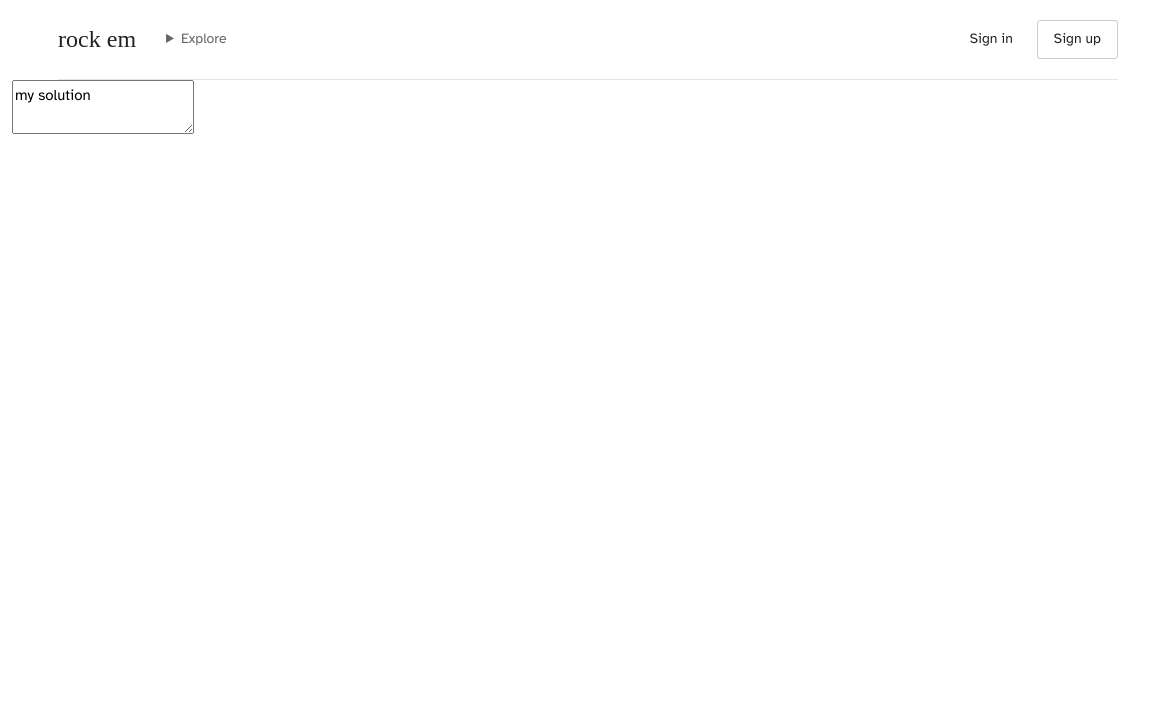
Test case: Account › opens dedicated pages and preserves the practice content
Click the link "Sign up".
click(1077, 40)  # box [1037,20,1118,59]
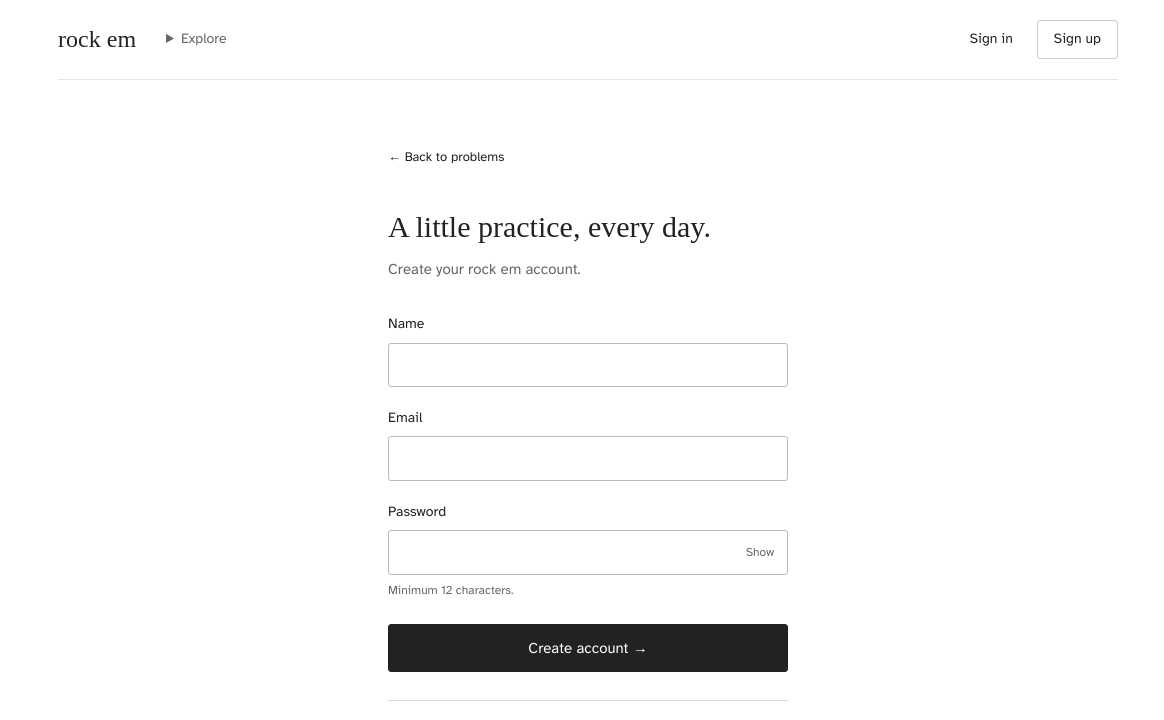
Expected: the field labelled "Name" is shown, [388,343,788,387]
Expected: the text box labelled "Draft" is gone
Click the link "← Back to problems".
click(446, 157)  # box [388,147,504,168]
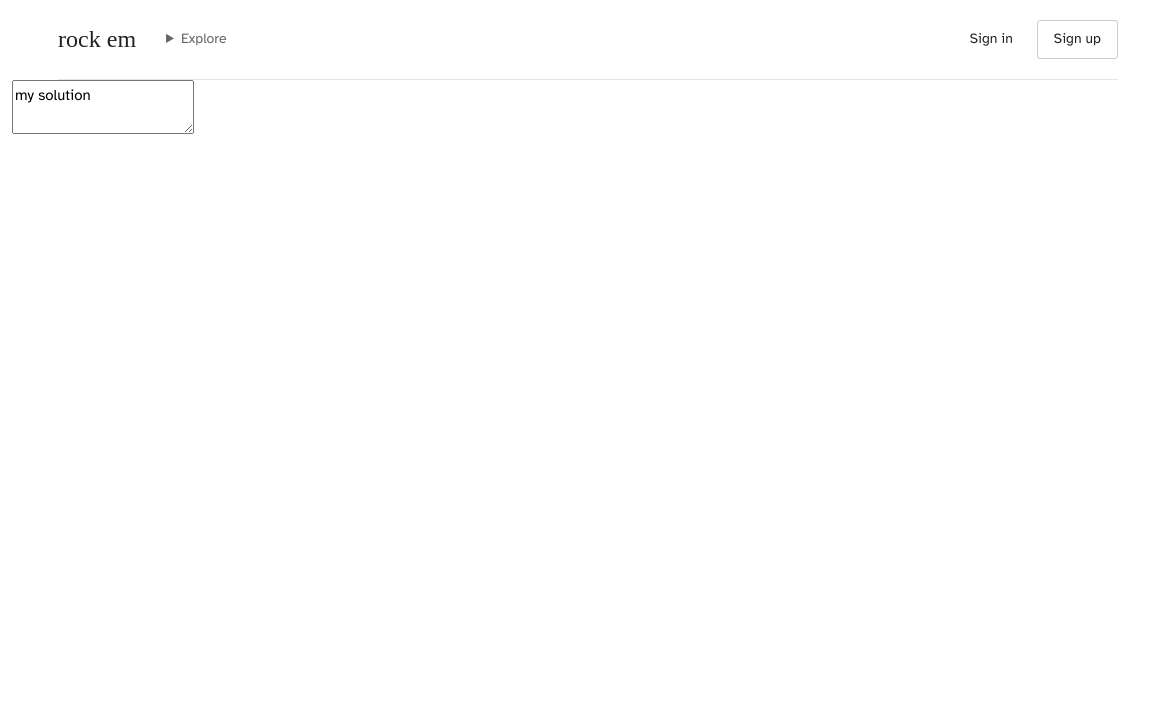
Expected: the text box named "Draft" holds "my solution", [12,80,194,134]
